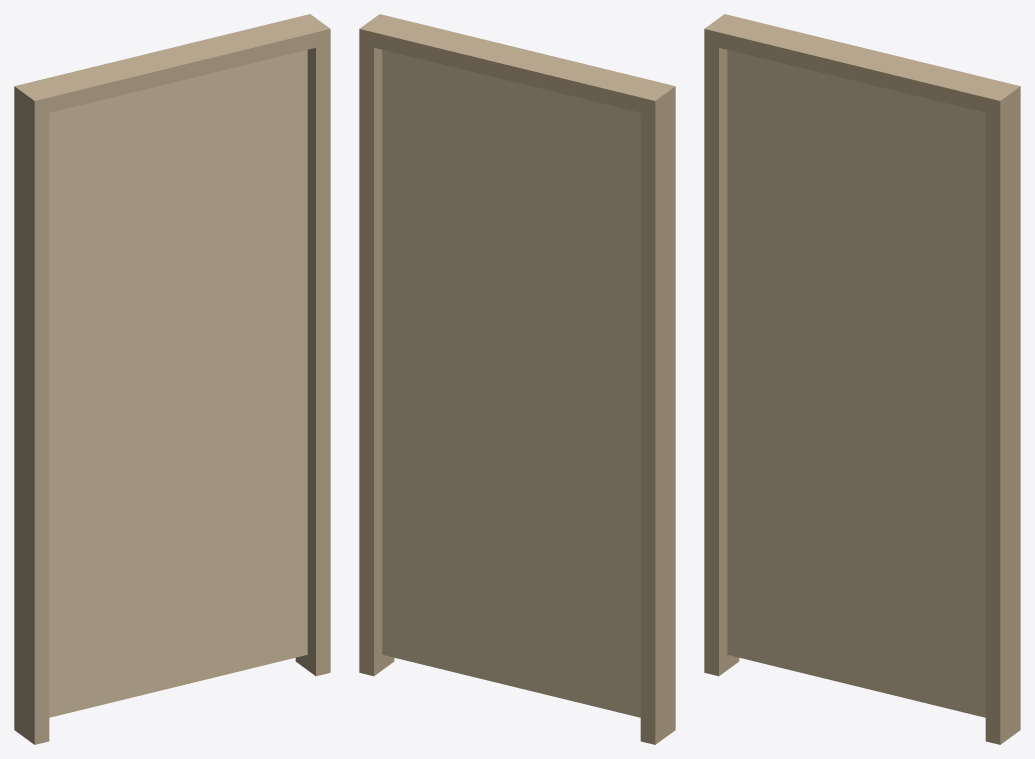
3 renders of one model, left to right at view 1: azimuth 30°, elevation 25°; view 2: azimuth 150°, elevation 25°; view 3: azimuth 330°, elevation 25°, orthographic.
Parts seen in each view (by area): view 1: leaf, frame (×3); view 2: leaf, frame (×3); view 3: leaf, frame (×3).
Boxes of the visible parts, box(x1,y1,x2,y2) form: leaf: box(49, 50, 307, 717); frame (×3): box(14, 14, 330, 744); leaf: box(382, 50, 640, 717); frame (×3): box(359, 14, 675, 744); leaf: box(727, 50, 985, 717); frame (×3): box(704, 14, 1020, 744).
Bounding box in the file's own units: 1.01 × 2.1 × 0.12.
